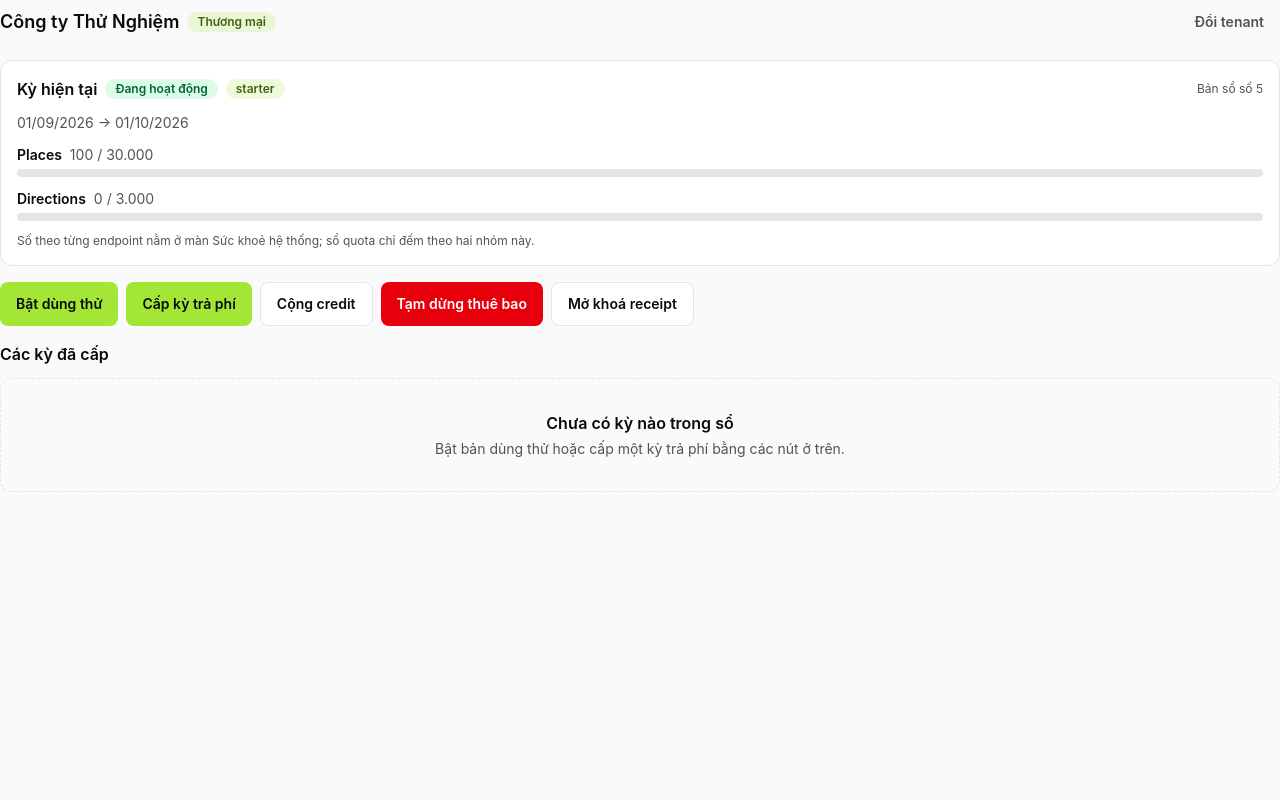
Test: BillingPage › lệnh trượt sau khi hộp thoại đã đóng: hiện mã lỗi và câu tiếng Việt, KHÔNG im lặng
Step 1. Click the button "Bật dùng thử" → (59, 304), box 0,282 -> 118,326
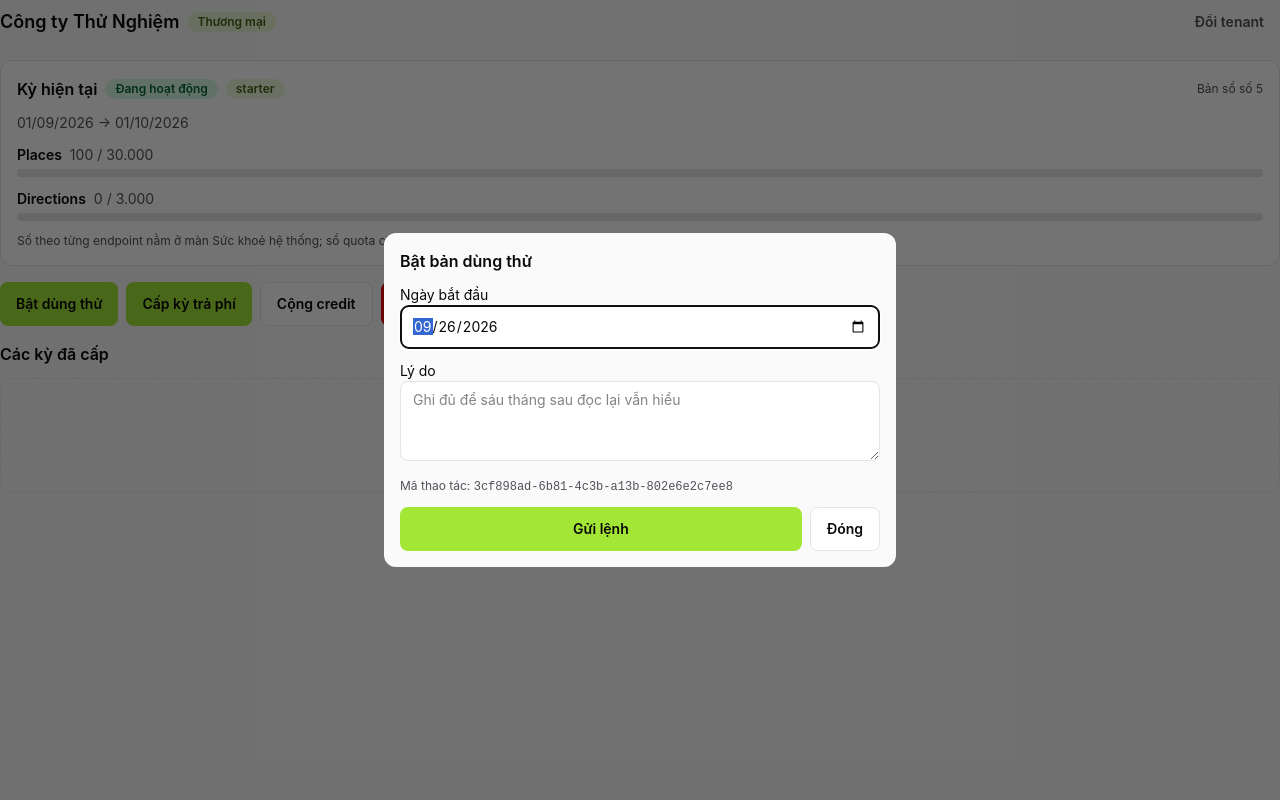
Step 2. Type "khách xin dùng thử" into the text box labelled "Lý do" → (640, 421), box 400,381 -> 880,461
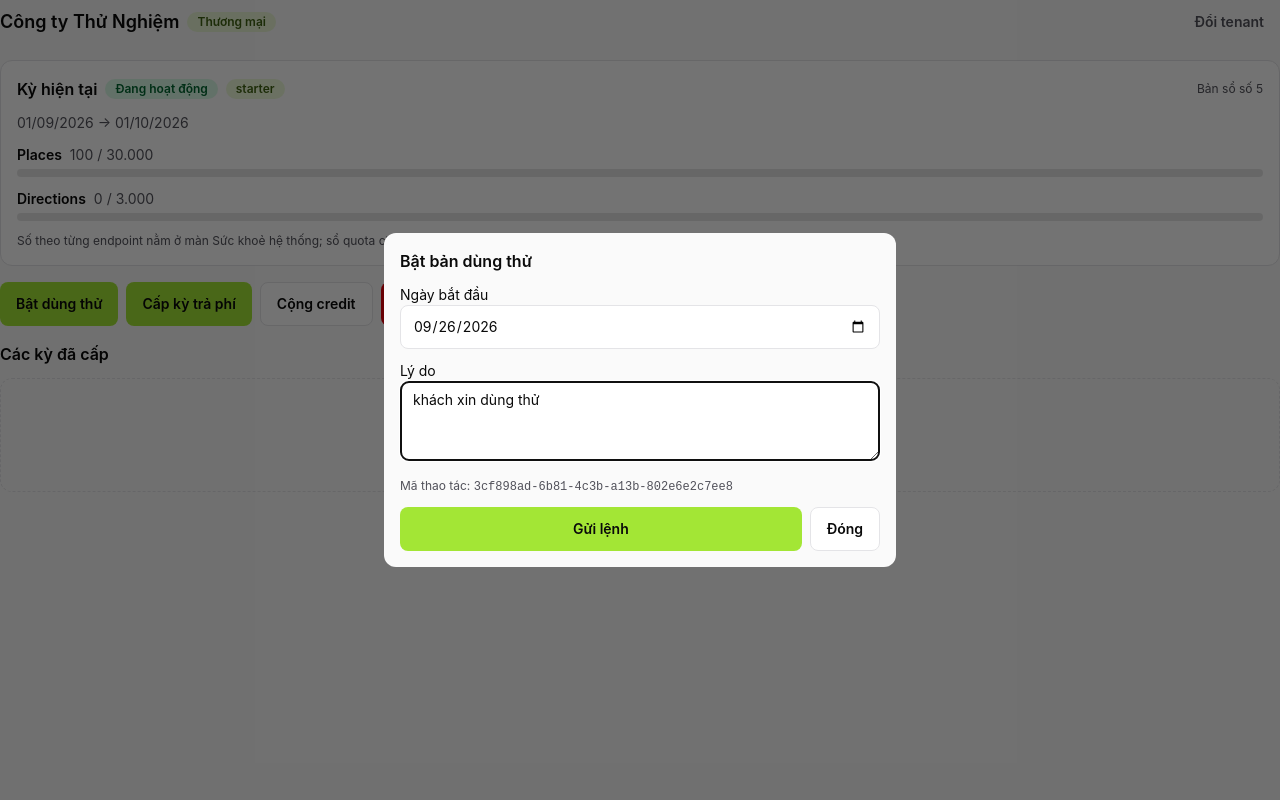
Step 3. Click the button "Gửi lệnh" → (601, 529), box 400,507 -> 802,551
Wait 6000 ms
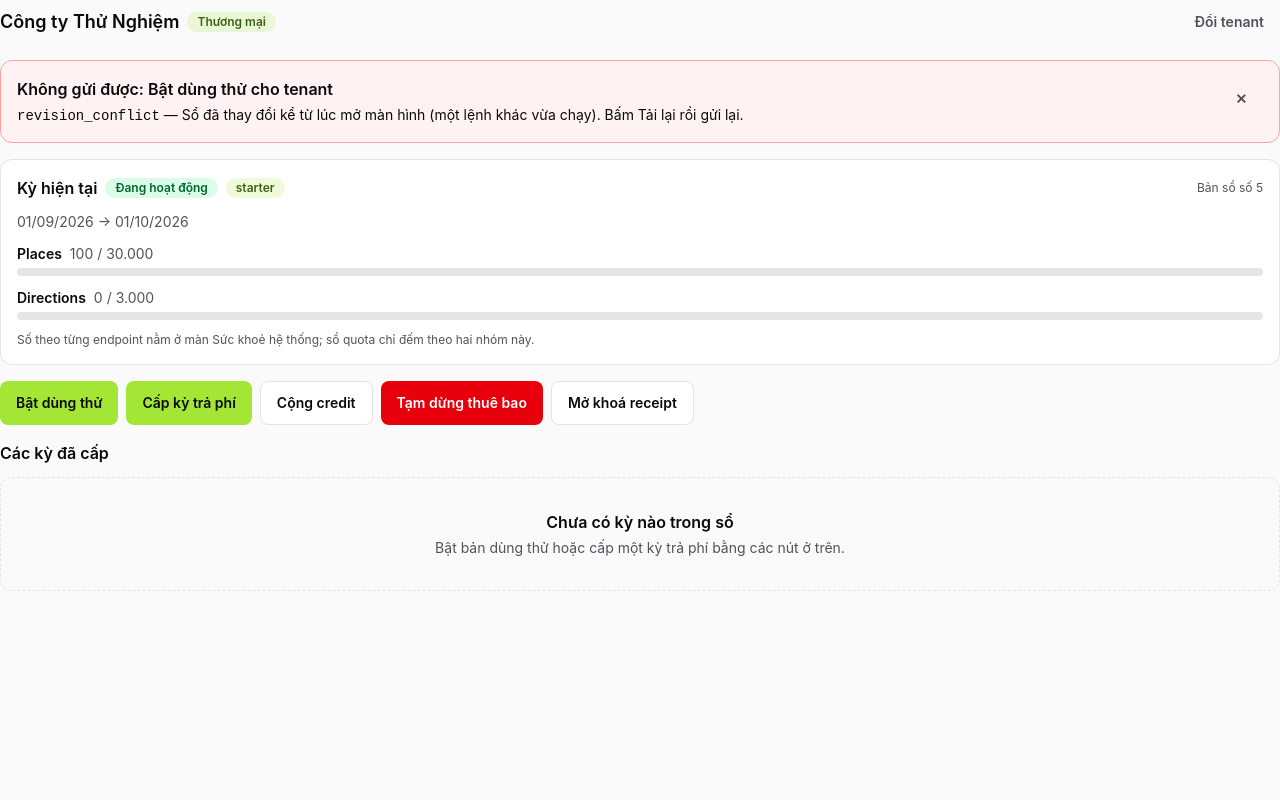
Result: the text "revision_conflict" is shown at 17,108 -> 160,124
Result: the text "Bấm Tải lại rồi gửi lại" is shown at 182,106 -> 744,123
